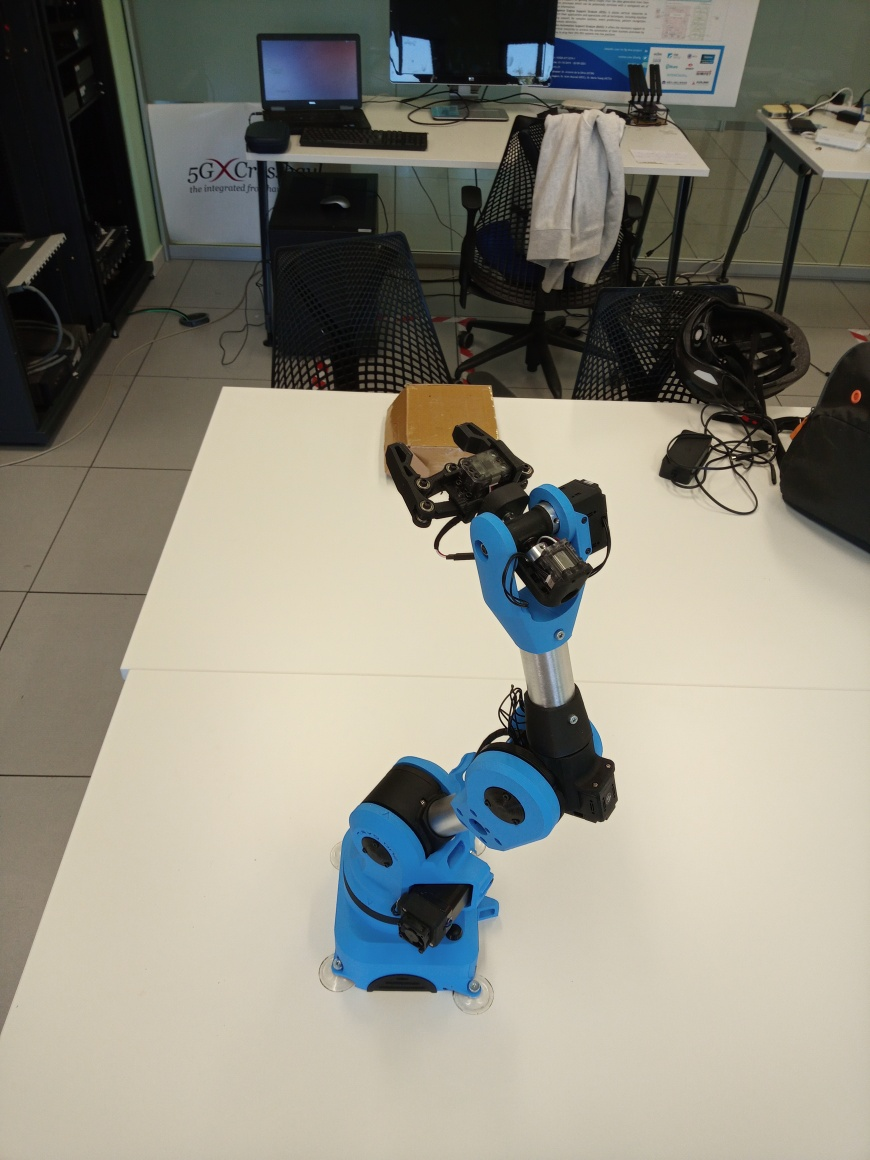robot: (314, 424, 624, 1018)
